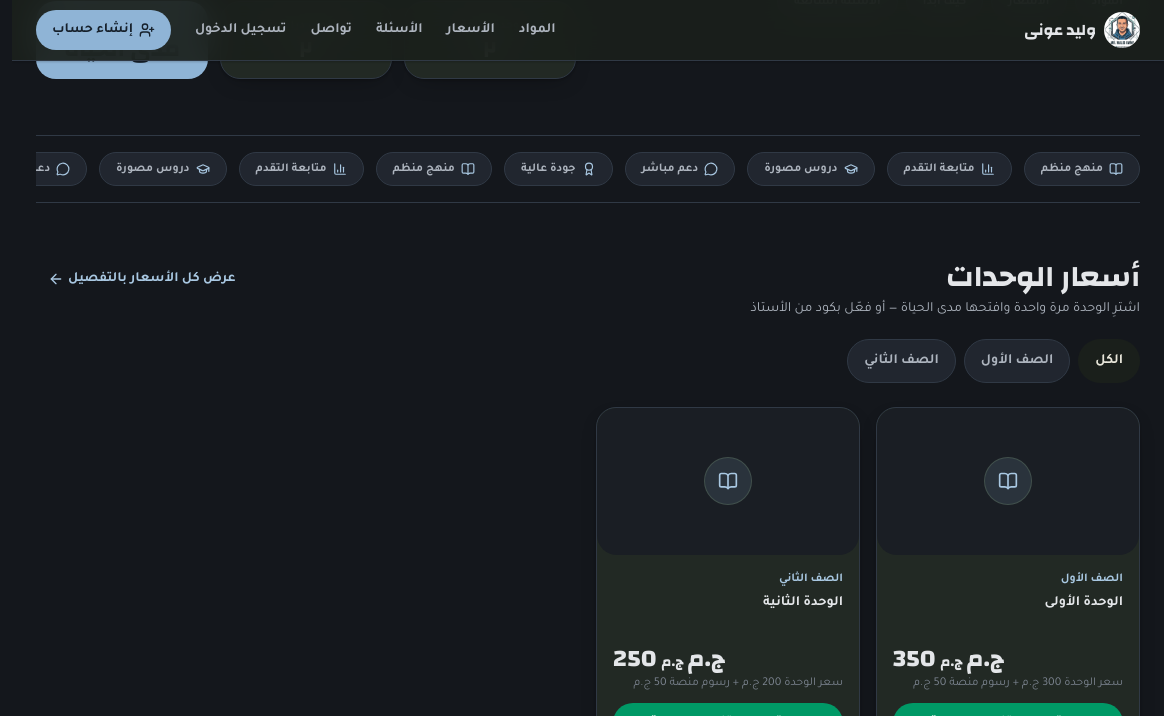
Test: LandingPage › filters units by grade and shows the Manara band with real counts
The image size is (1164, 716).
(page scrolled)
Expected: the heading "الوحدة الأولى" is shown, top-left (1045, 596), bottom-right (1123, 610)
Click the button with test id "landing-filter-الصف الثاني": [902, 361] box top-left (847, 339), bottom-right (956, 383)
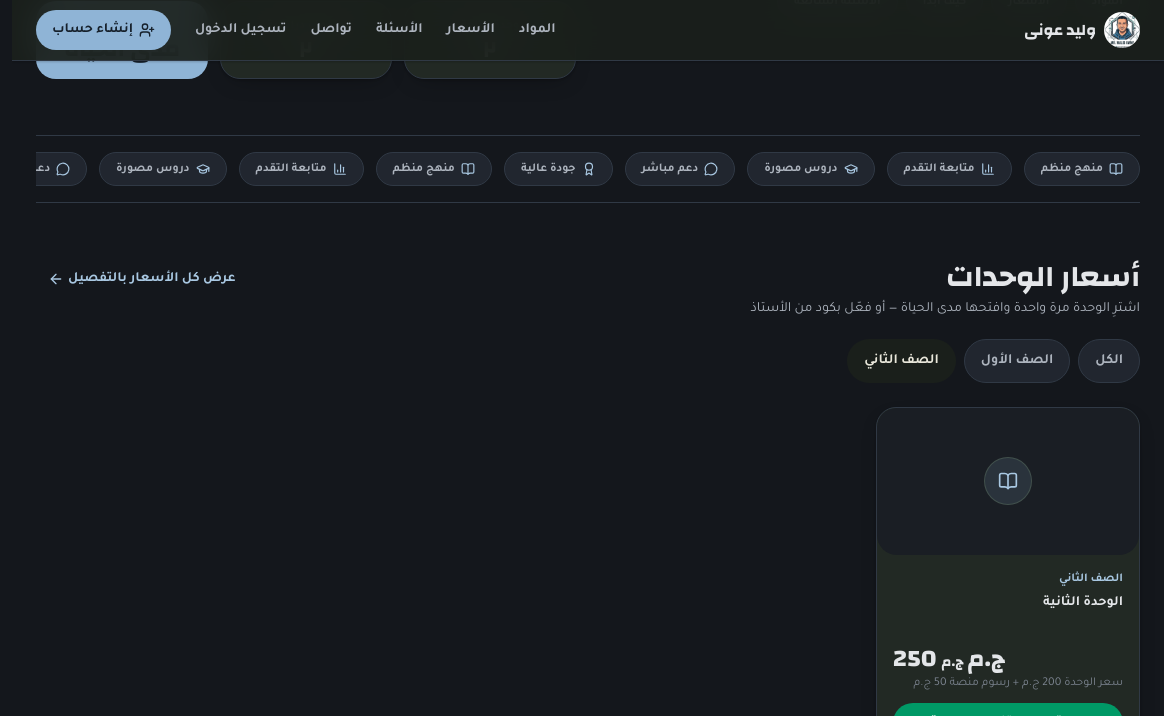
Expected: the heading "الوحدة الثانية" is shown, top-left (1043, 596), bottom-right (1123, 610)
Now the heading "الوحدة الأولى" is gone
